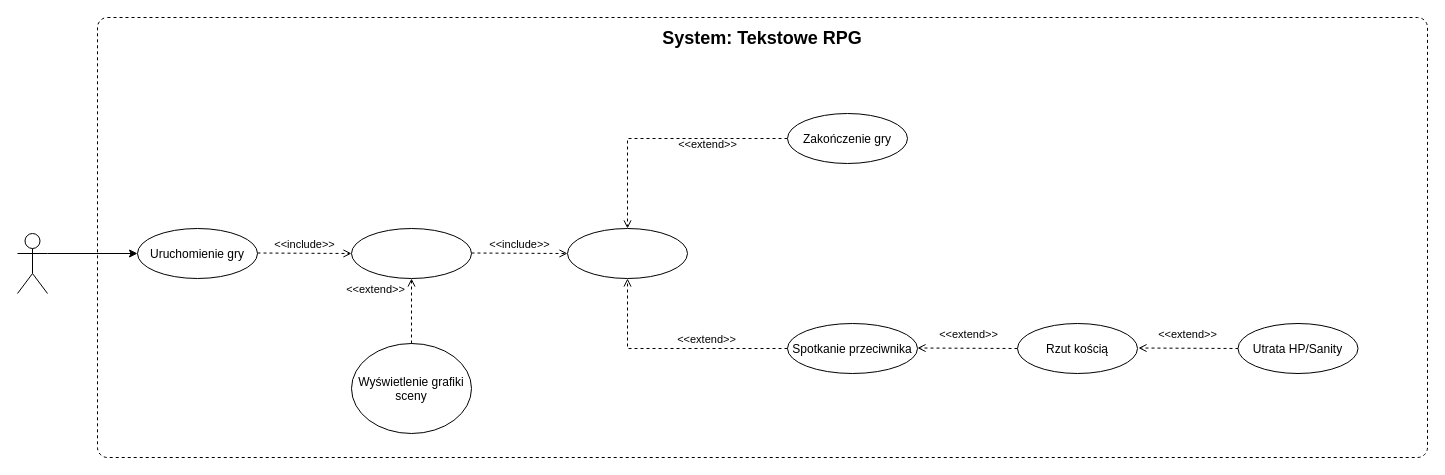
The diagram is 1445 pixels wide and 475 high, and some of its shapes have lost their labels. Each missing label, with the centre of its shape:
"Actor" belongs at (x=32, y=263).
"Czytanie opisu sceny" belongs at (x=411, y=253).
"Dokonanie wyboru" belongs at (x=627, y=253).
